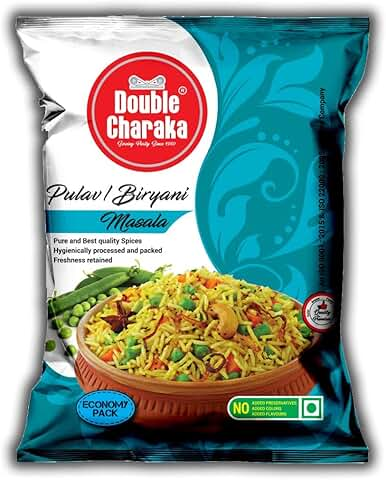Biryani: (15, 14, 375, 467)
